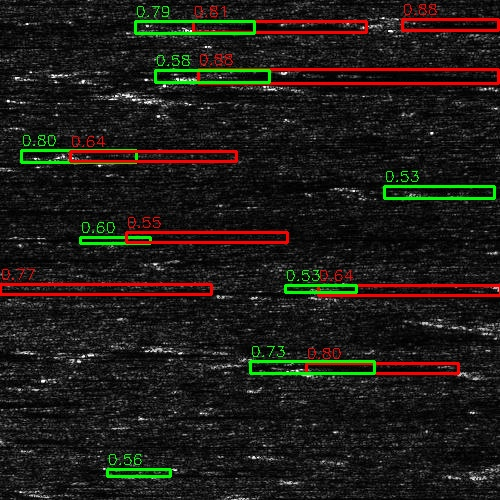rock: (302, 14, 447, 33), (253, 287, 398, 302), (149, 68, 242, 85), (137, 22, 242, 33), (176, 491, 291, 500), (23, 150, 96, 163), (110, 411, 215, 420), (241, 361, 324, 372), (419, 190, 500, 199), (463, 322, 500, 341), (83, 469, 166, 476), (0, 279, 29, 298), (441, 470, 500, 477), (446, 471, 500, 478), (0, 204, 36, 213), (0, 434, 21, 441), (0, 253, 10, 264)
shadow: (196, 68, 500, 85), (0, 279, 260, 298), (326, 287, 500, 302), (234, 491, 500, 500), (375, 14, 500, 33), (60, 150, 188, 163), (283, 361, 428, 372), (190, 22, 320, 33), (163, 411, 303, 420), (125, 469, 259, 476), (0, 204, 100, 213), (0, 253, 55, 264), (0, 434, 57, 441), (461, 190, 500, 199), (483, 470, 500, 477)
